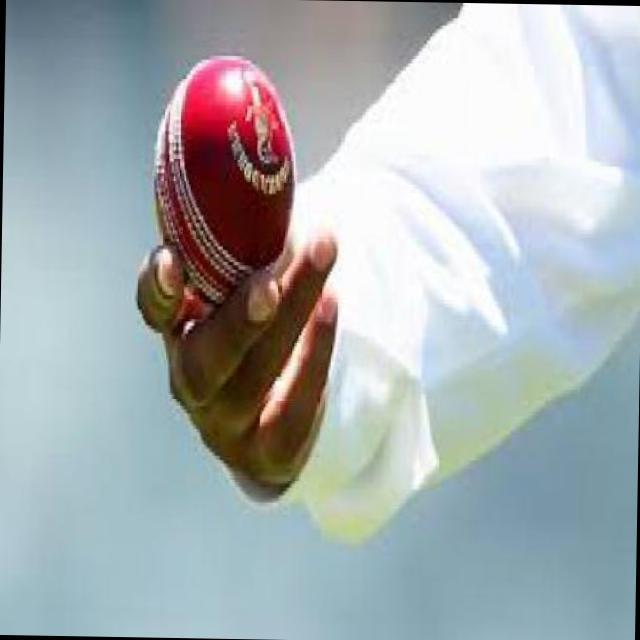-: (148, 34, 313, 315)
